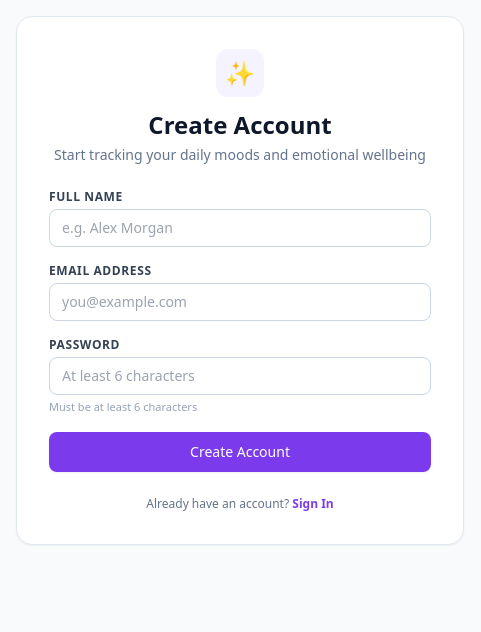
Frontend: Authentication Pages › RegisterPage › validates password length < 6 characters before submitting
Type "New User" into the field with placeholder "e.g. Alex Morgan".
click(240, 228); type("New User")  # box left=49, top=209, right=431, bottom=247
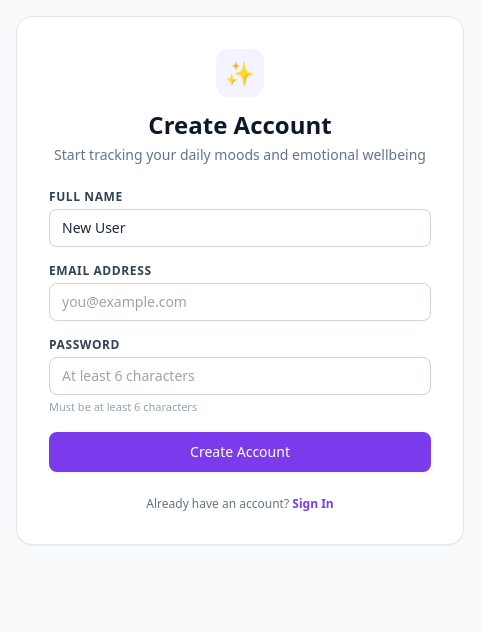
Type "valid@example.com" into the field with placeholder "you@example.com".
click(240, 302); type("valid@example.com")  # box left=49, top=283, right=431, bottom=321
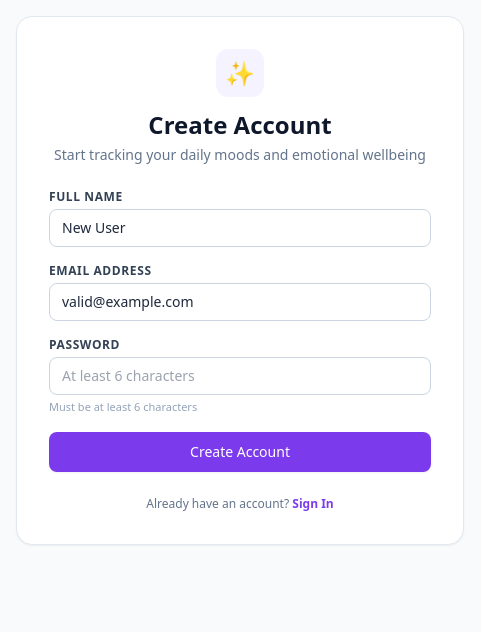
Type "12345" into the password field with placeholder "At least 6 characters".
click(240, 376); type("12345")  # box left=49, top=357, right=431, bottom=395
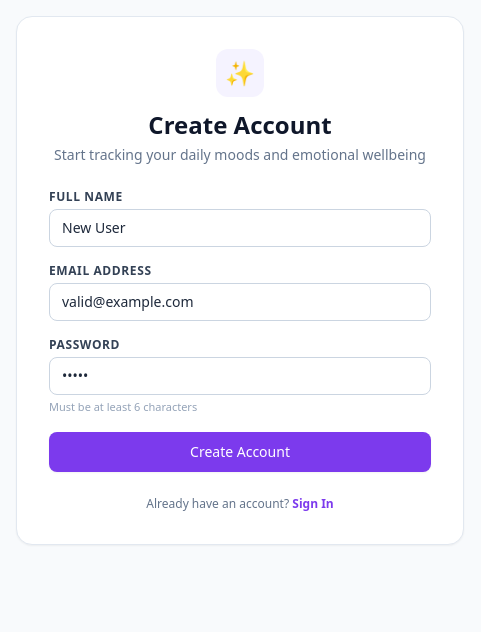
Click the button "Create Account".
click(240, 452)  # box left=49, top=432, right=431, bottom=472
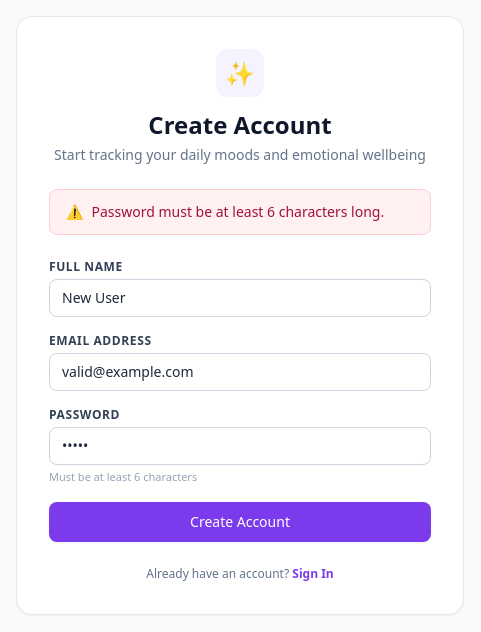
Expected: the text "Password must be at least 6 characters long." is shown, left=92, top=202, right=384, bottom=222
